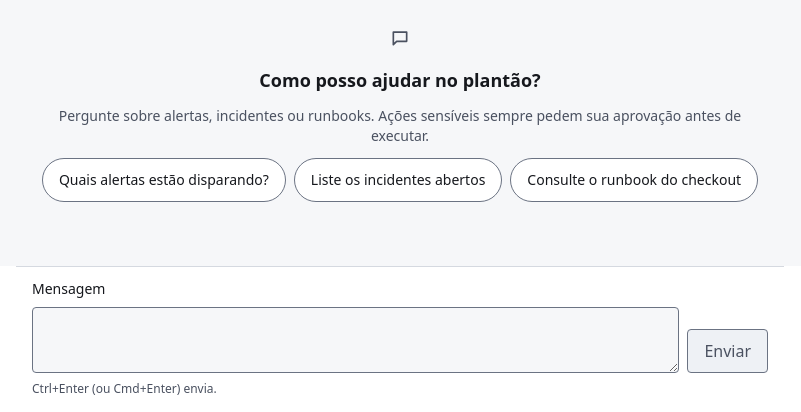
Scenario: Chat › shows the empty state with 3 examples; clicking one sends it
Expected: the heading "Como posso ajudar no plantão?" is shown, [259,66,541,94]
Click the button "Liste os incidentes abertos" at (398, 180), box [294,158,502,202]
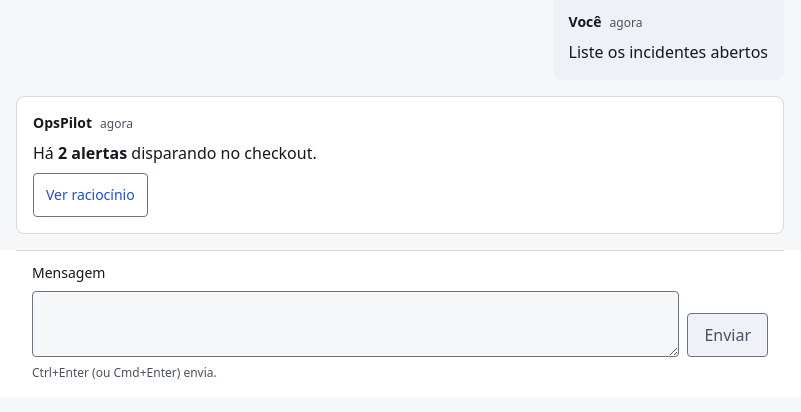
Expected: the text "2 alertas" is shown, [58,142,127,164]
Expected: the heading "Como posso ajudar no plantão?" is gone
